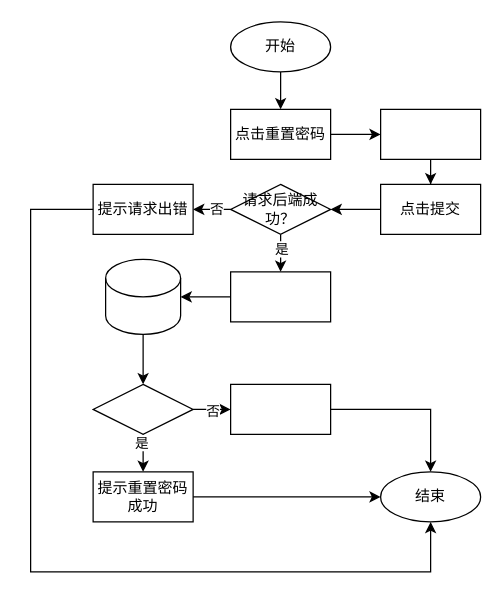
Some shapes in this 503 by 604 pixel diagram are drawn without their labels. Each missing label, with the centre of its shape:
"提示重置密码失败" belongs at (x=280, y=408).
"数据库操作" belongs at (x=280, y=296).
"请求数据库成功？" belongs at (x=142, y=408).
"输入原密码和二次新密码" belongs at (x=430, y=133).
